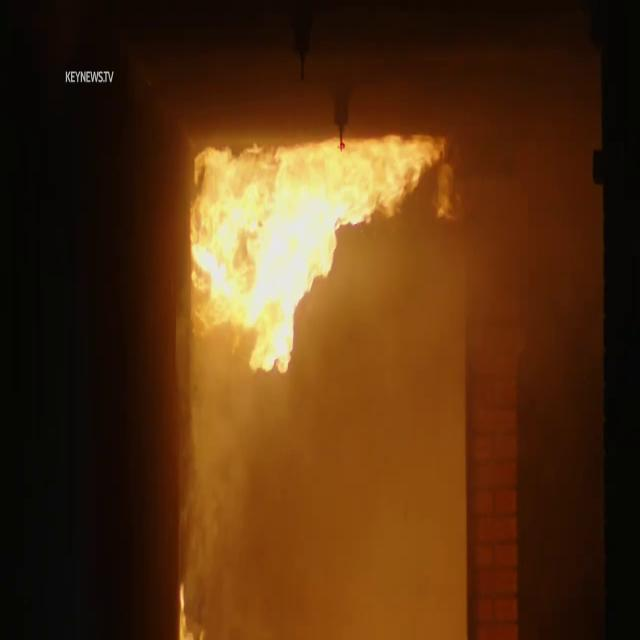Fire: (191, 126, 449, 373)
